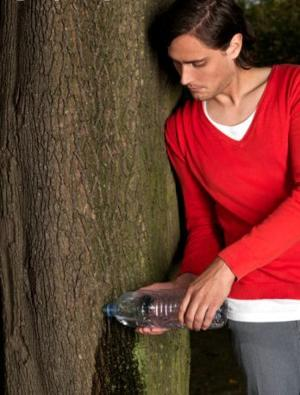person: (134, 3, 300, 395)
